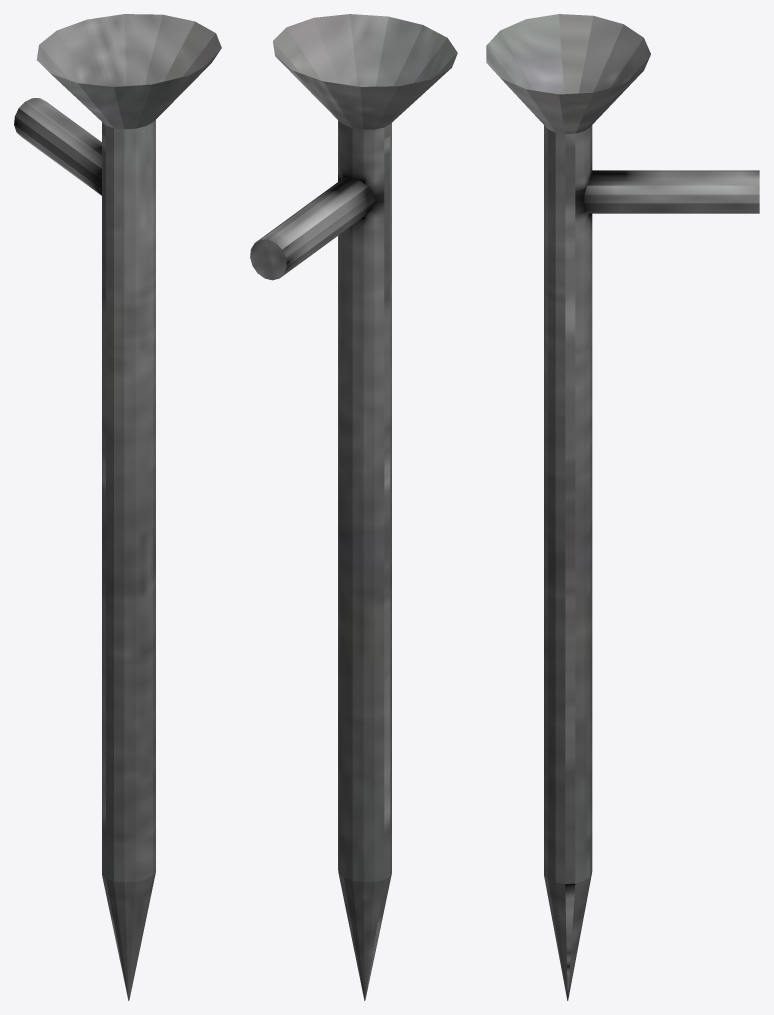
File: tugal.fbx
3 renders of one model, left to right at view 1: azimuth 30°, elevation 25°; view 2: azimuth 150°, elevation 25°; view 3: azimuth 270°, elevation 25°, orthographic.
Visible parts, largest first — view 1: tugal; view 2: tugal; view 3: tugal.
Boxes of the visible parts, x1,y1,x2,y2 form: tugal: (14, 14, 221, 1000); tugal: (250, 14, 457, 1000); tugal: (486, 14, 759, 1000).
Size of the model in its own units: 390 by 2138 by 560.
